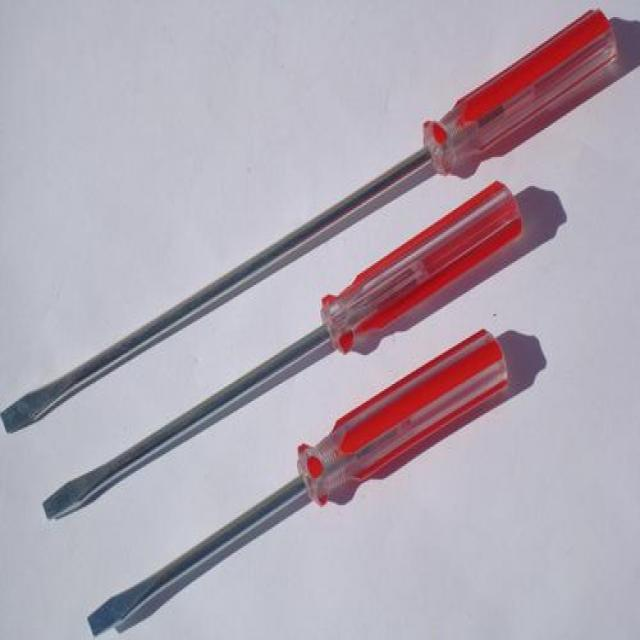screwdriver: (0, 0, 625, 444), (29, 167, 544, 534), (68, 328, 550, 640)
